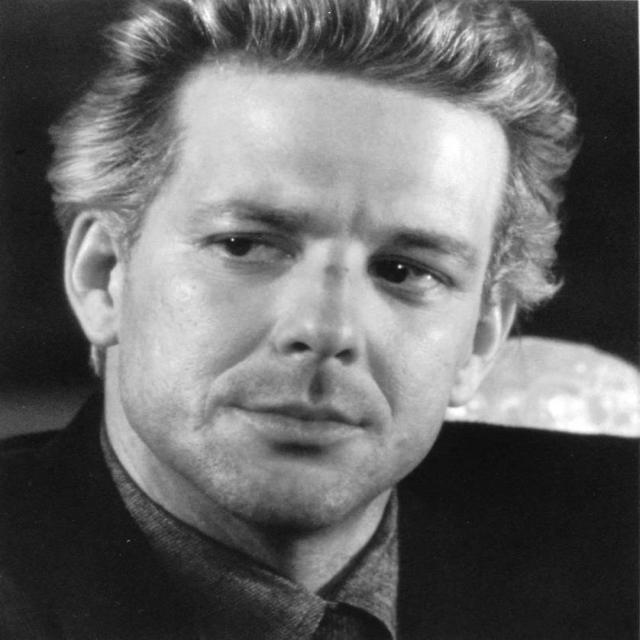no-earmuff: (60, 206, 125, 348)
